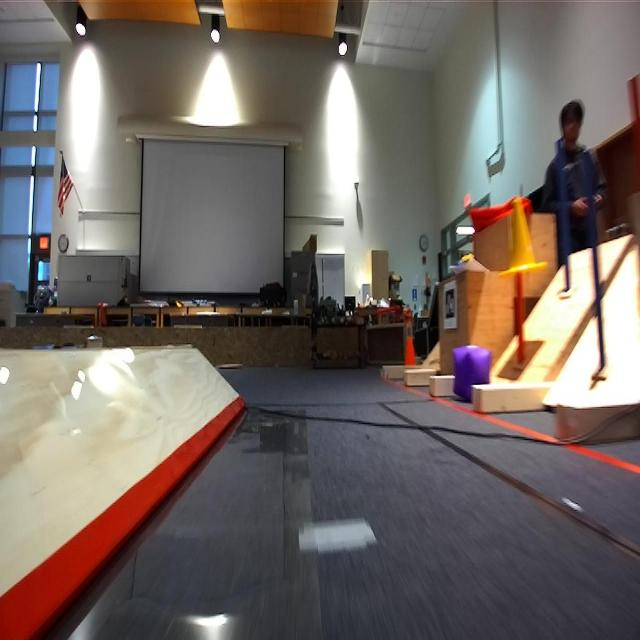frc_cone: (501, 195, 544, 281)
frc_cube: (452, 345, 489, 402)
